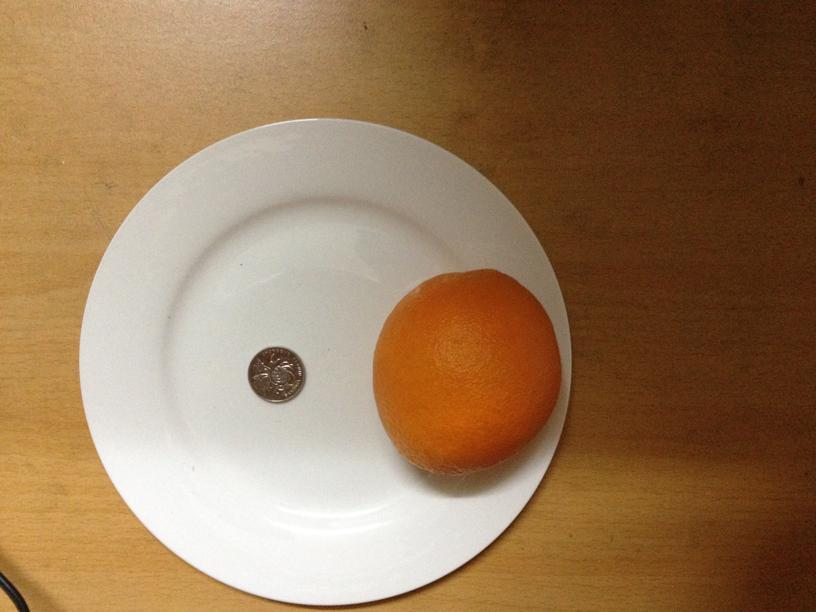coin: (246, 347, 305, 402)
orange: (379, 269, 557, 472)
